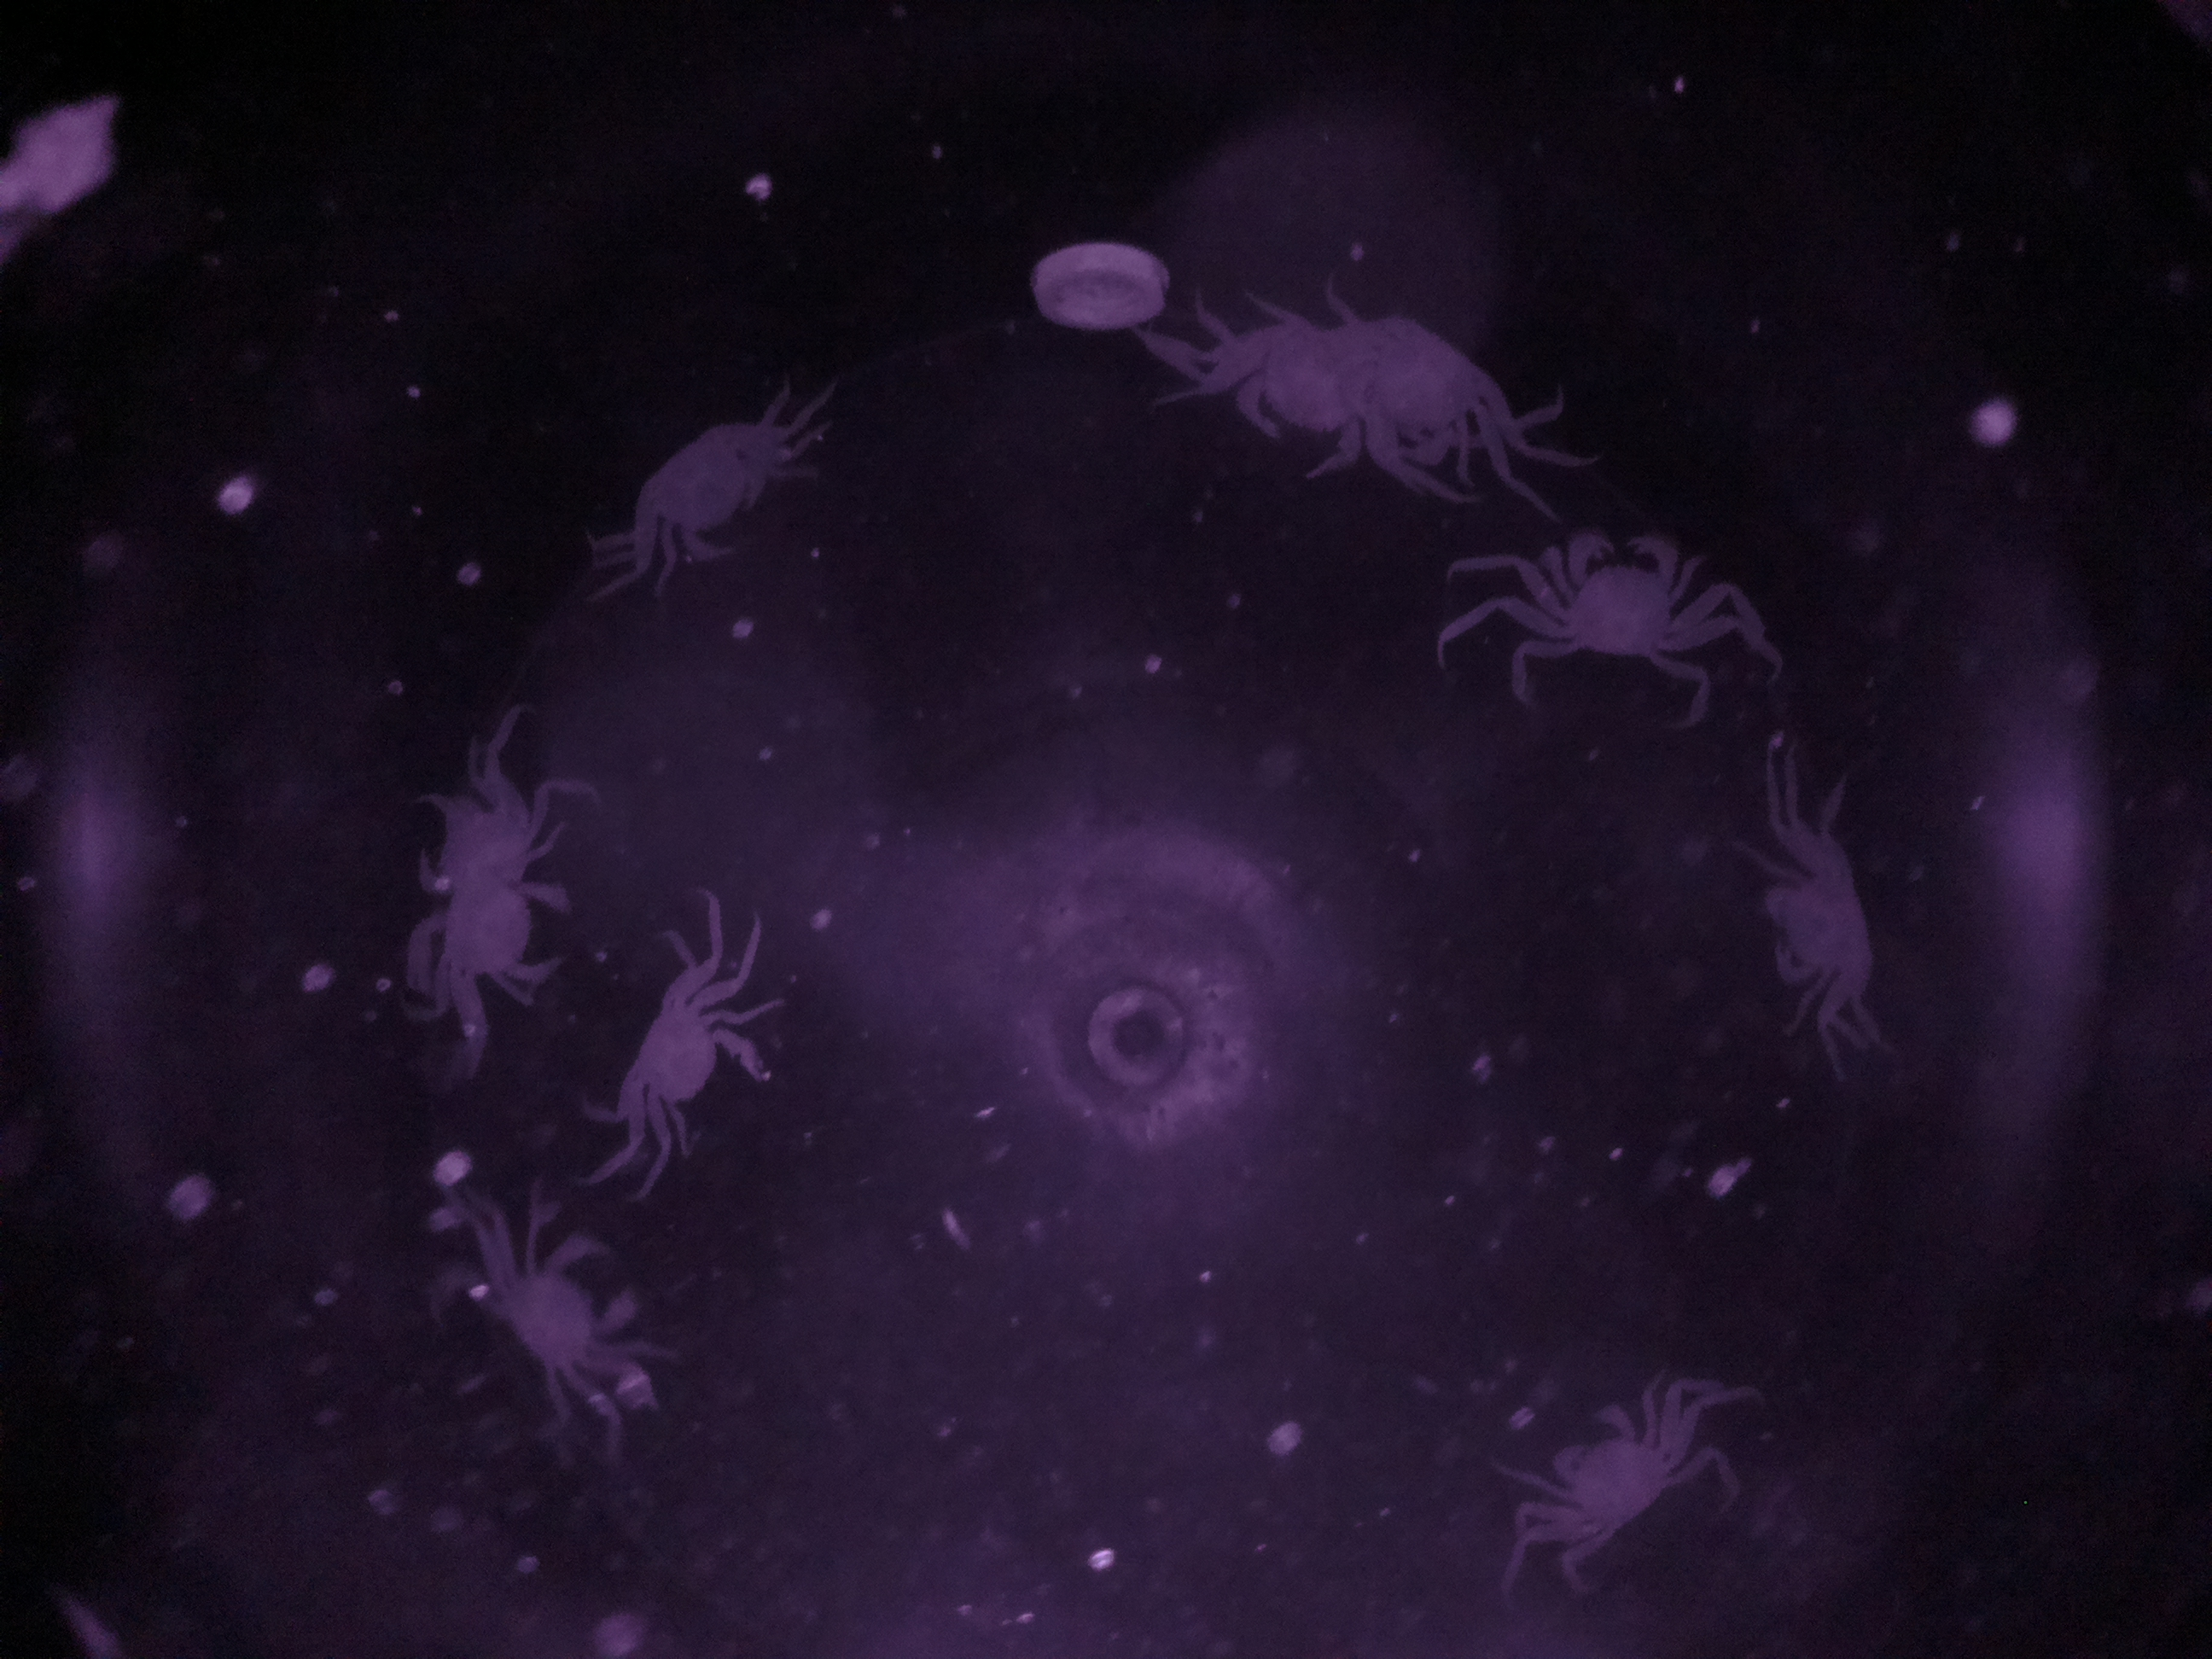Crab: (596, 950, 786, 1185), (1494, 514, 1749, 681), (472, 1201, 664, 1420), (618, 396, 794, 591), (1747, 826, 1900, 1035), (1527, 1375, 1689, 1567)
